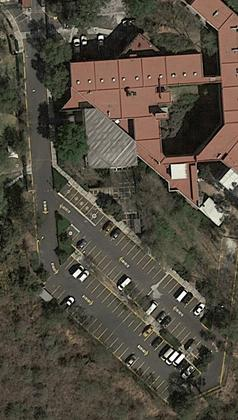parkingspot: (68, 231, 212, 362), (50, 283, 181, 405), (65, 257, 166, 352), (96, 216, 169, 284), (57, 182, 106, 227), (159, 273, 207, 318)
